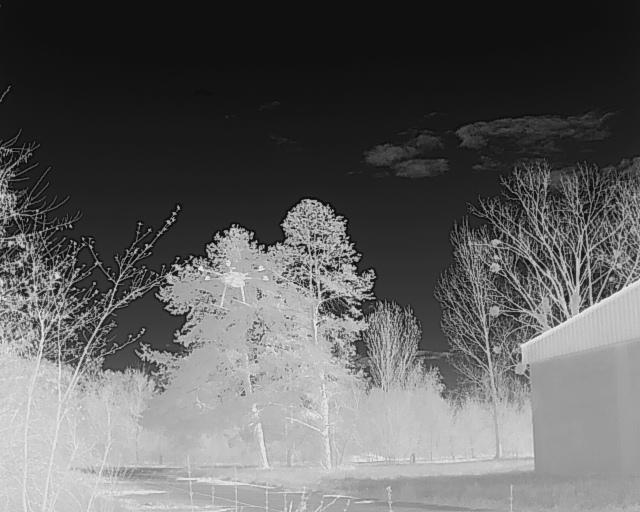drone: (193, 256, 275, 313)
